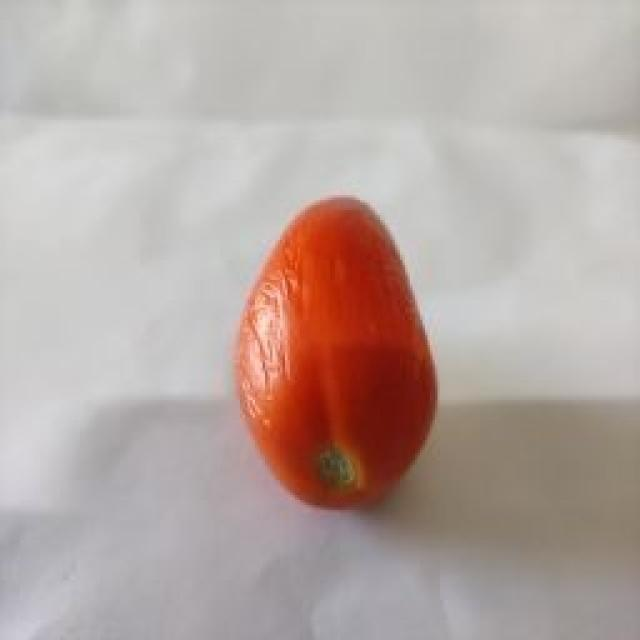overripe: (232, 193, 447, 514)
